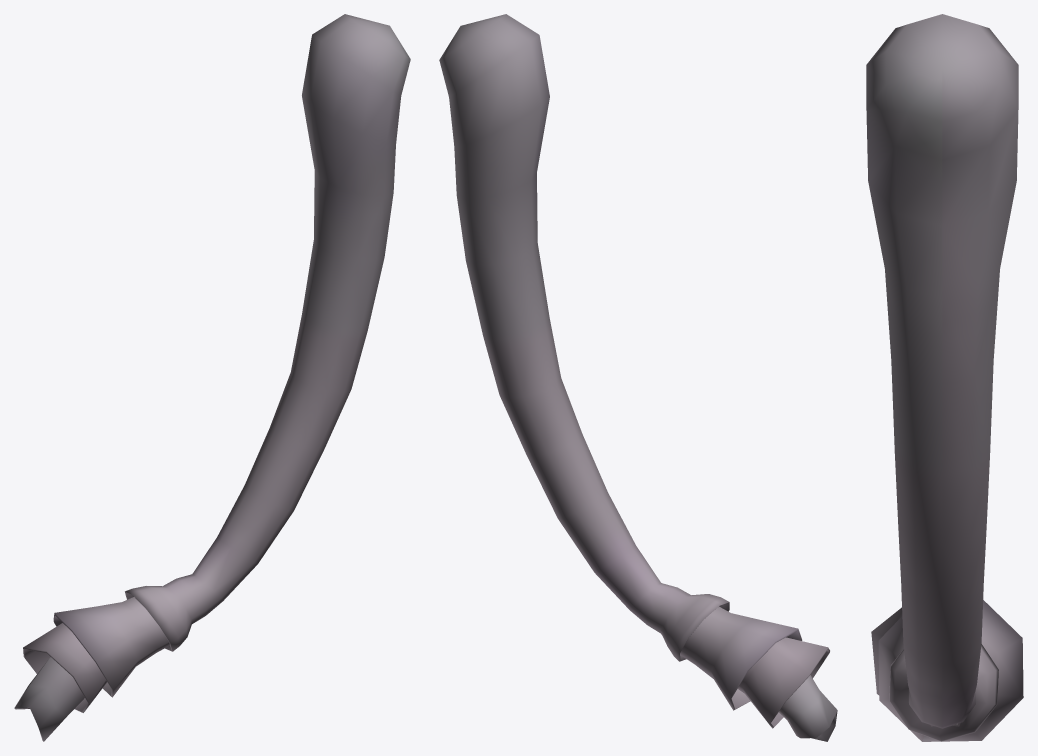
The model's file is Elephant_Tail_0.FBX.
The picture shows the model from 3 angles, left to right: view 1: azimuth 30°, elevation 25°; view 2: azimuth 150°, elevation 25°; view 3: azimuth 270°, elevation 25°; orthographic projection. The views are drawn at different scales.
Parts seen in each view (by area): view 1: Elephant_Tail_0; view 2: Elephant_Tail_0; view 3: Elephant_Tail_0.
Boxes of the visible parts, box(x1,y1,x2,y2) form: Elephant_Tail_0: box(14, 14, 410, 741); Elephant_Tail_0: box(439, 14, 837, 741); Elephant_Tail_0: box(866, 14, 1023, 741).
Bounding box in the file's own units: 0.9153 × 1.46 × 0.2201.
